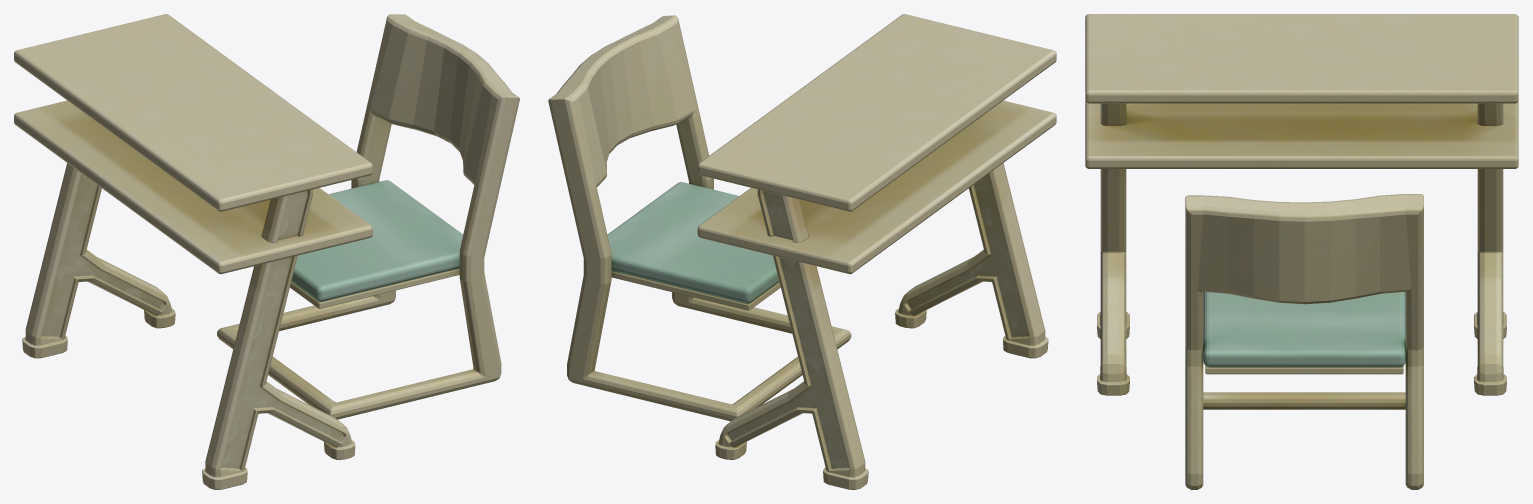
Rendered from deskChairMiddle.glb.
The picture shows the model from 3 angles, left to right: view 1: azimuth 30°, elevation 25°; view 2: azimuth 150°, elevation 25°; view 3: azimuth 270°, elevation 25°; orthographic projection. The views are drawn at different scales.
Parts seen in each view (by area): view 1: 桌椅_原型_Baked; view 2: 桌椅_原型_Baked; view 3: 桌椅_原型_Baked.
Part boxes in pixels (bbox=[...]): 桌椅_原型_Baked: bbox=[14, 14, 519, 489]; 桌椅_原型_Baked: bbox=[548, 14, 1056, 489]; 桌椅_原型_Baked: bbox=[1085, 14, 1518, 489].
Size of the model in its own units: 1.22 by 0.9482 by 1.2.
Materials: 1 (1 with a texture image).
